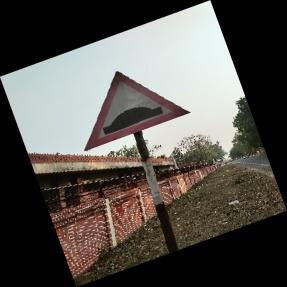Speed-breaker: (83, 71, 191, 150)
